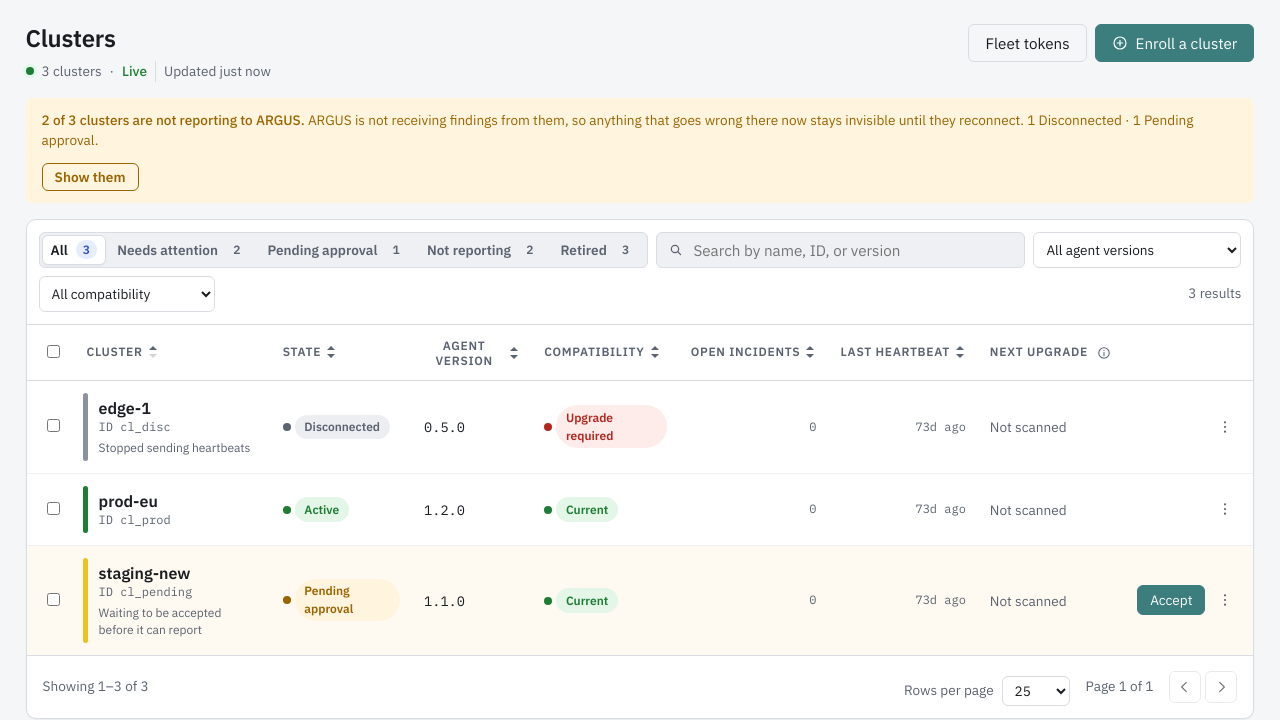
it: ClustersPage — search, state, version filters and quick views › the agent-compatibility dropdown isolates clusters with that verdict
Check: the link "prod-eu" is shown, box 99,490 -> 158,512
Check: the text "Upgrade required" is shown, box 556,405 -> 667,448
Select "Upgrade required" in the 2nd dropdown named "Filter by agent compatibility". click: (127, 294)
box: 39,276 -> 215,312
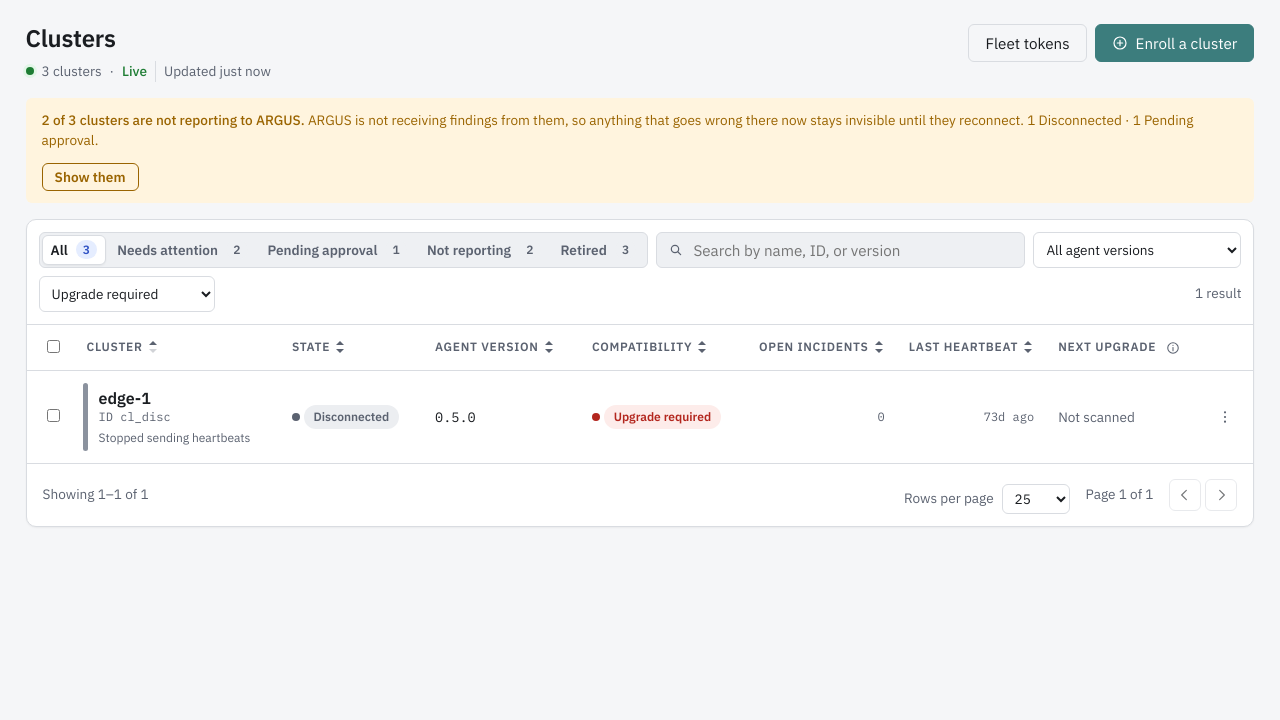
Check: the link "edge-1" is shown, box 99,387 -> 151,409
Check: the link "prod-eu" is gone
Check: the link "staging-new" is gone
